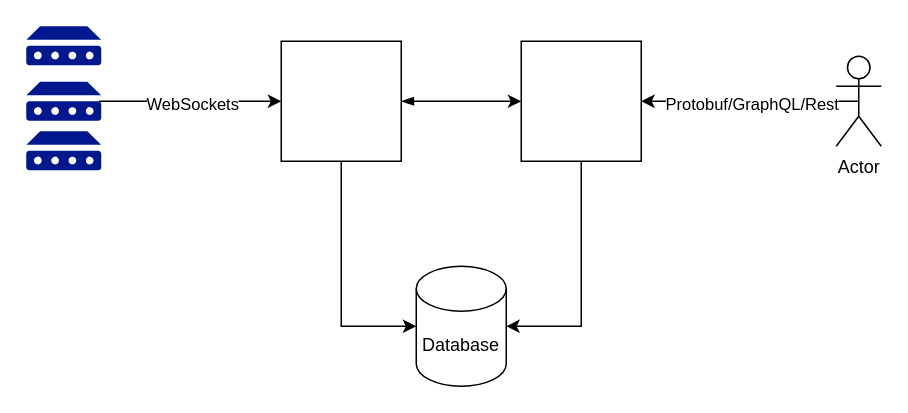
This 908x413 diagram has some shape labels left out. Each missing label, with the centre of its shape:
"API" goes at (x=580, y=100).
"OCPP" goes at (x=340, y=100).
